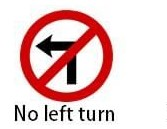Traffic signal: (16, 6, 115, 103)
